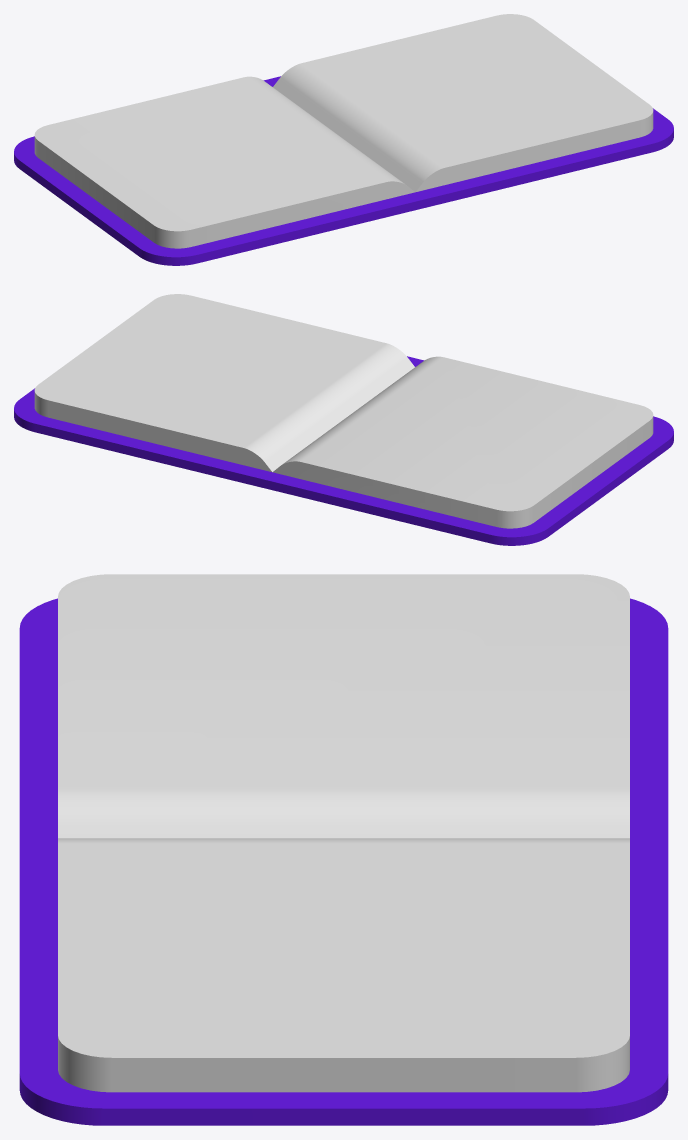
Rendered from Book.fbx.
3 views of the same model, one above another, from view 1: azimuth 30°, elevation 25°; view 2: azimuth 150°, elevation 25°; view 3: azimuth 270°, elevation 25° (orthographic). The views are drawn at different scales.
Parts seen in each view (by area): view 1: Pages, Pages.001, Cover; view 2: Pages, Pages.001, Cover; view 3: Pages.001, Pages, Cover.
Boxes of the visible parts, bbox=[...] form: Pages: bbox=[273, 14, 653, 192]; Pages.001: bbox=[34, 76, 414, 248]; Cover: bbox=[14, 76, 673, 265]; Pages: bbox=[34, 294, 414, 472]; Pages.001: bbox=[273, 356, 653, 528]; Cover: bbox=[14, 356, 673, 545]; Pages.001: bbox=[58, 574, 629, 838]; Pages: bbox=[58, 838, 629, 1092]; Cover: bbox=[19, 598, 668, 1125].
Size of the model in its own units: 320 by 15 by 170.
